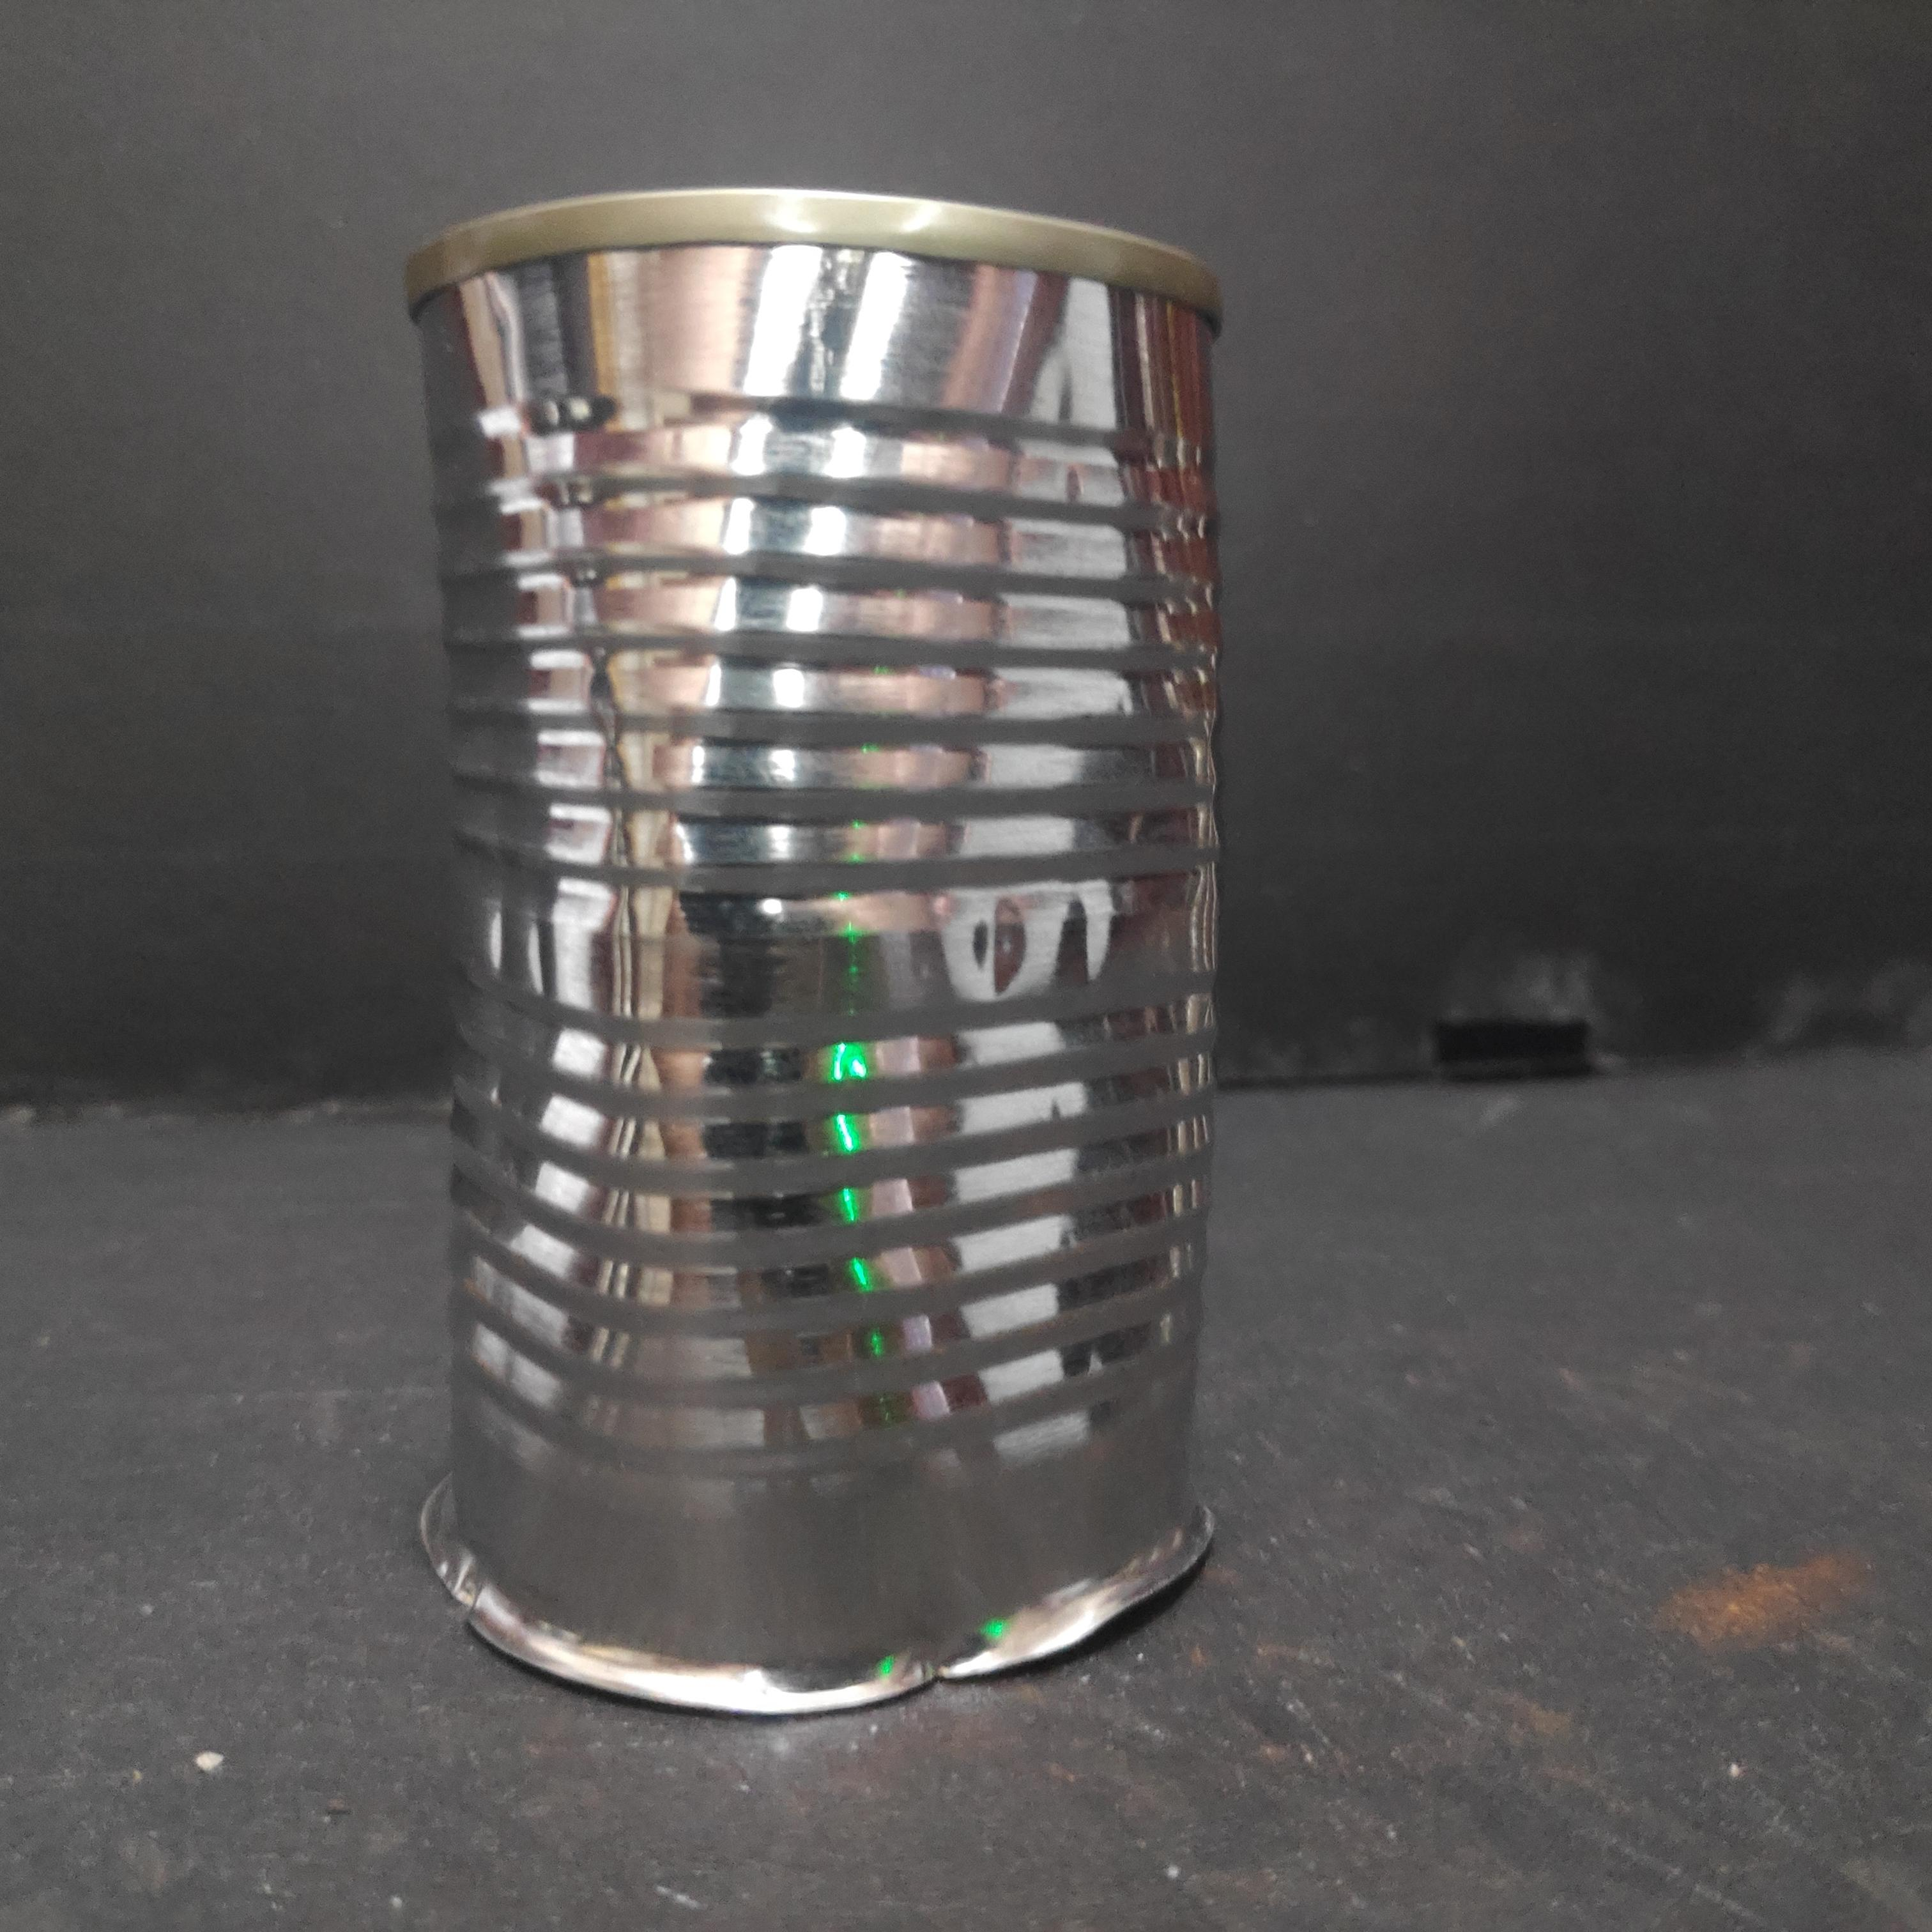Minor Defect: (384, 166, 1242, 1743)
